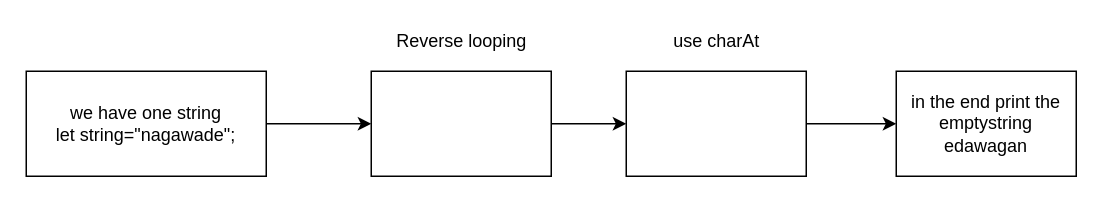
Image size: 1103x203. Some labels were removed from this diagram. The box of each missing label's shape, as (x1, y1, x2, y2) in pixels:
first we loop this string from string.length to 0th index: (370, 70, 551, 176)
store single word in ch and add in empty string: (625, 70, 806, 176)
